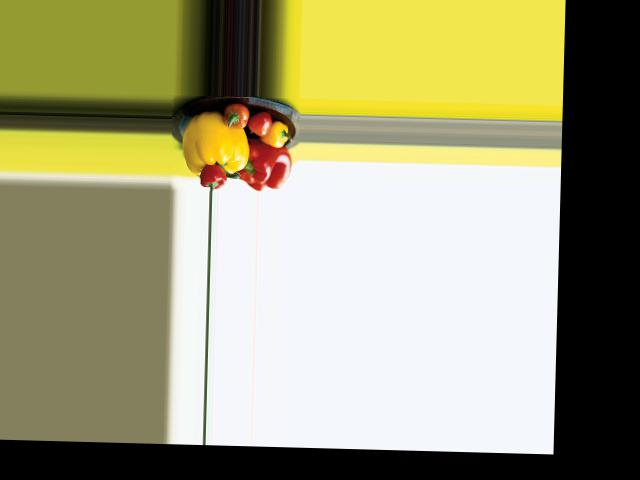bell_pepper: (263, 122, 291, 148)
